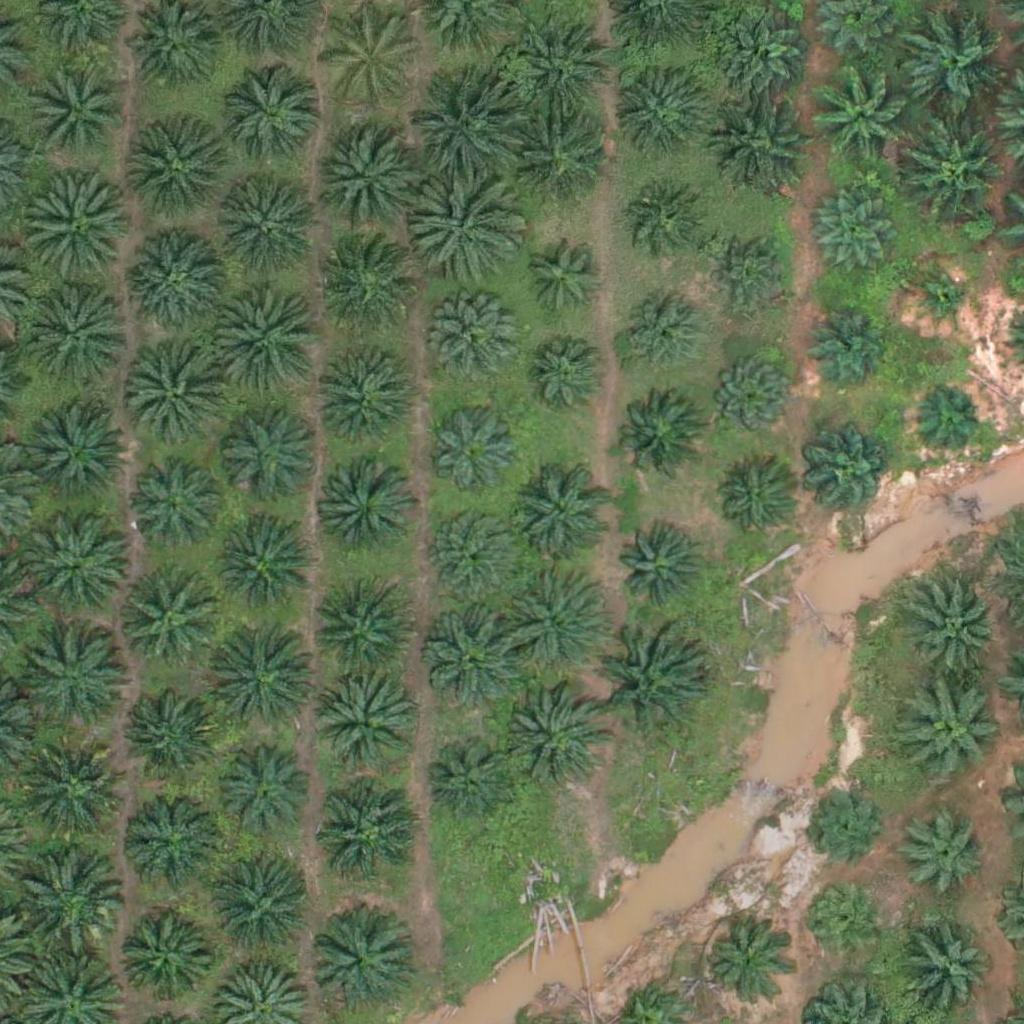Kelapa_Sawit: (19, 173, 132, 286), (211, 280, 324, 393), (592, 625, 705, 738), (12, 842, 125, 955), (217, 170, 329, 284), (410, 169, 522, 283), (410, 77, 522, 191), (21, 277, 133, 390), (320, 119, 432, 232), (901, 5, 1013, 118), (900, 107, 1012, 220), (495, 562, 607, 675), (207, 620, 319, 733), (27, 396, 127, 497), (28, 62, 128, 163), (122, 119, 222, 220), (128, 227, 228, 328), (127, 352, 227, 453), (220, 404, 320, 505), (227, 63, 327, 164), (318, 9, 418, 110), (313, 239, 413, 340), (317, 354, 417, 455), (318, 462, 418, 563), (515, 17, 615, 118), (513, 109, 613, 210), (611, 60, 711, 161), (812, 64, 912, 165), (307, 914, 407, 1015), (112, 908, 212, 1009), (891, 803, 991, 904), (501, 686, 601, 787), (426, 603, 526, 704), (310, 672, 410, 773), (310, 584, 410, 685), (214, 516, 314, 617), (426, 401, 526, 501), (512, 465, 612, 565), (713, 87, 813, 187), (897, 923, 997, 1023), (212, 865, 312, 965), (907, 577, 1007, 677), (898, 683, 998, 783), (316, 782, 416, 882), (212, 741, 312, 841), (124, 786, 224, 886), (116, 566, 216, 666), (121, 682, 221, 782), (27, 515, 127, 615), (27, 632, 127, 732), (19, 745, 119, 845), (517, 332, 605, 421), (431, 508, 519, 597), (623, 186, 711, 274), (810, 192, 898, 280), (807, 431, 895, 519), (801, 880, 889, 968), (712, 458, 799, 546), (707, 351, 794, 439), (707, 230, 794, 318), (514, 239, 601, 327), (617, 290, 704, 378), (613, 390, 700, 478), (130, 461, 217, 549), (433, 302, 520, 390), (719, 14, 806, 102), (805, 298, 892, 386), (705, 922, 792, 1010), (803, 781, 890, 869), (618, 527, 705, 615), (427, 734, 514, 822), (911, 382, 986, 457), (912, 271, 975, 334)
